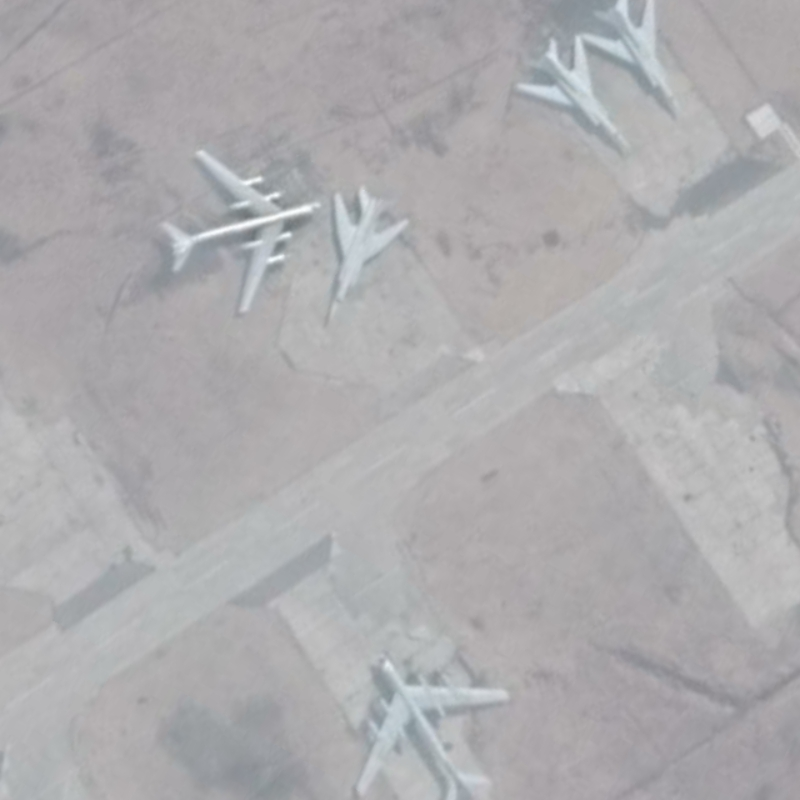A12: (513, 33, 633, 153), (580, 1, 685, 118), (326, 183, 413, 323)
A17: (161, 148, 325, 316), (354, 653, 513, 800)
